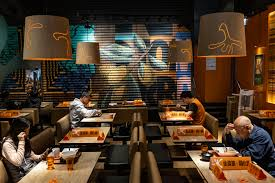Good: (1, 117, 274, 175), (1, 89, 105, 178), (179, 89, 275, 156), (68, 89, 207, 128)
